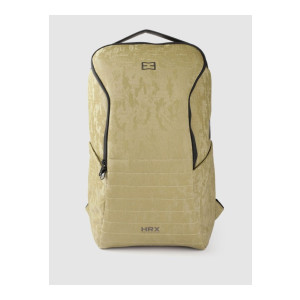backpack: (85, 28, 224, 250)
